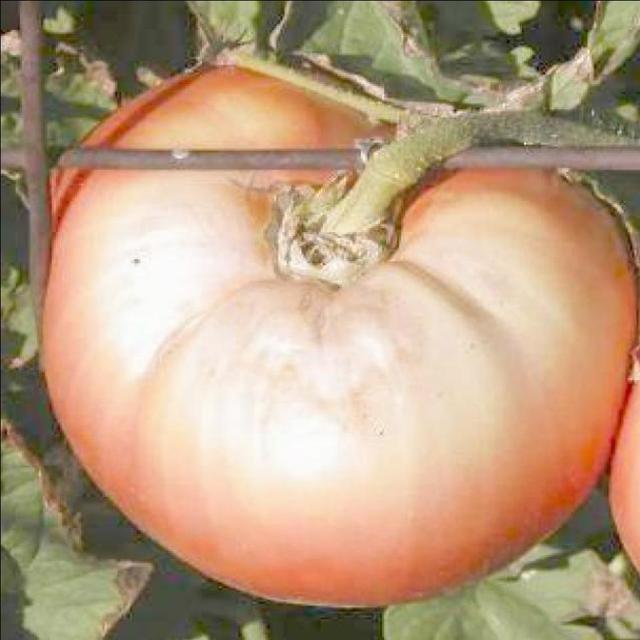Sunscald Fruit: (62, 122, 376, 352)
